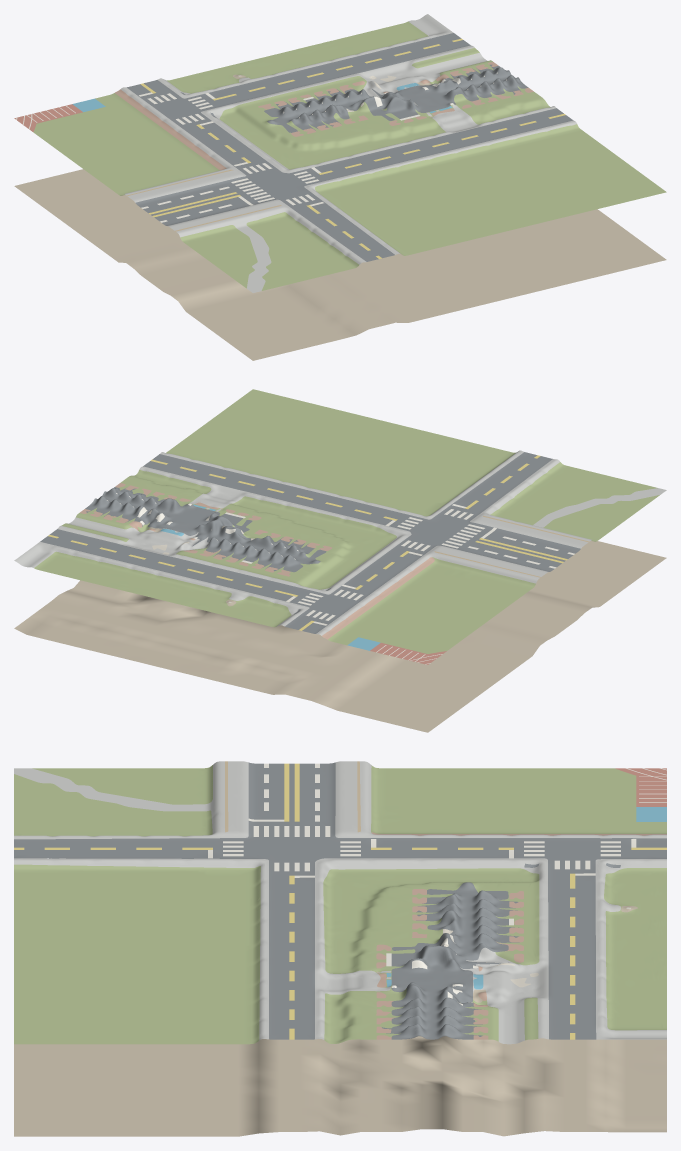
The picture shows the model from 3 angles, top to bottom: view 1: azimuth 30°, elevation 25°; view 2: azimuth 150°, elevation 25°; view 3: azimuth 270°, elevation 25°; orthographic projection. The views are drawn at different scales.
Parts seen in each view (by area): view 1: s_-7_5__grass, s_-7_5__soil, s_-7_5__asphalt, s_-7_5__stone_paving, s_-7_5__brick_paving, s_-7_5__white_marking, s_-7_5__yellow_marking, s_-7_5__red_court; view 2: s_-7_5__grass, s_-7_5__soil, s_-7_5__asphalt, s_-7_5__stone_paving, s_-7_5__brick_paving, s_-7_5__white_marking, s_-7_5__yellow_marking, s_-7_5__red_court; view 3: s_-7_5__grass, s_-7_5__soil, s_-7_5__asphalt, s_-7_5__stone_paving, s_-7_5__white_marking, s_-7_5__brick_paving, s_-7_5__yellow_marking, s_-7_5__red_court, s_-7_5__blue_court.
Part boxes in pixels (x1,y1,x2,y2): s_-7_5__grass: [33, 21, 666, 290]; s_-7_5__soil: [14, 74, 666, 360]; s_-7_5__asphalt: [127, 33, 573, 261]; s_-7_5__stone_paving: [120, 14, 576, 292]; s_-7_5__brick_paving: [115, 62, 533, 170]; s_-7_5__white_marking: [16, 72, 506, 222]; s_-7_5__yellow_marking: [140, 38, 565, 258]; s_-7_5__red_court: [14, 104, 82, 131]; s_-7_5__grass: [34, 389, 659, 653]; s_-7_5__soil: [14, 508, 666, 732]; s_-7_5__asphalt: [40, 452, 580, 633]; s_-7_5__stone_paving: [14, 450, 666, 635]; s_-7_5__brick_paving: [80, 483, 434, 639]; s_-7_5__white_marking: [107, 493, 574, 664]; s_-7_5__yellow_marking: [48, 455, 567, 630]; s_-7_5__red_court: [370, 643, 446, 664]; s_-7_5__grass: [14, 765, 666, 1044]; s_-7_5__soil: [14, 870, 666, 1136]; s_-7_5__asphalt: [14, 762, 666, 1039]; s_-7_5__stone_paving: [14, 761, 666, 1044]; s_-7_5__white_marking: [208, 763, 666, 1005]; s_-7_5__brick_paving: [372, 832, 666, 1039]; s_-7_5__yellow_marking: [14, 763, 666, 1039]; s_-7_5__red_court: [615, 768, 666, 806]; s_-7_5__blue_court: [386, 807, 666, 989].
Bounding box in the file's own units: 128 × 24.12 × 128.
